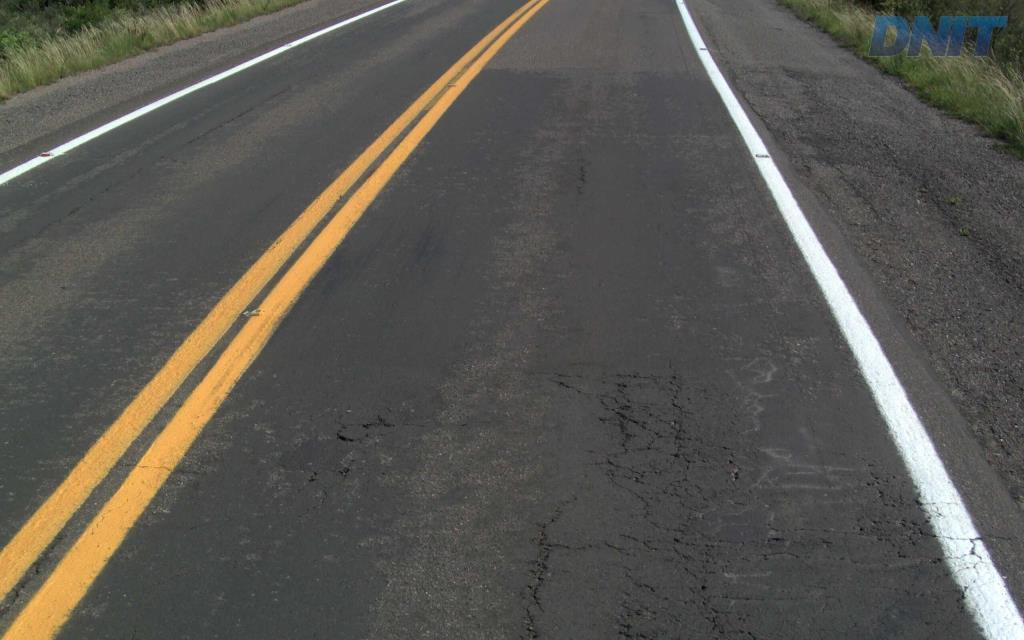crack: (526, 522, 570, 612), (598, 382, 651, 455), (655, 415, 696, 470), (696, 595, 744, 631), (614, 600, 657, 631)
